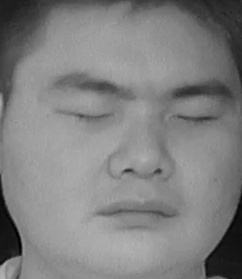blink: (59, 97, 113, 132), (174, 101, 221, 134)
mouth: (97, 192, 178, 235)
